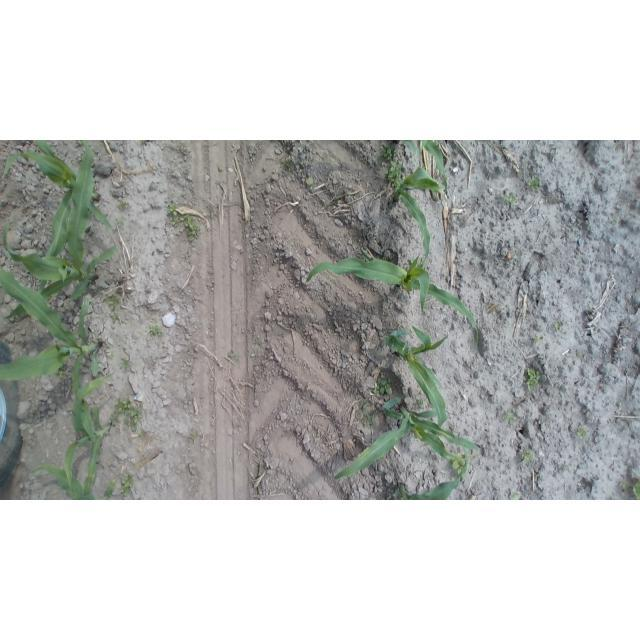Maize: (2, 141, 122, 324), (302, 246, 482, 353), (1, 262, 107, 422), (329, 391, 483, 482), (4, 140, 116, 260), (55, 371, 117, 500), (383, 323, 451, 433), (391, 163, 442, 263), (27, 460, 124, 501), (390, 476, 472, 500), (404, 141, 449, 182)
Weeds: (109, 396, 145, 435), (382, 161, 406, 191), (181, 214, 204, 242), (522, 367, 544, 394), (118, 473, 136, 500), (360, 402, 377, 430), (166, 202, 183, 229), (452, 454, 471, 478), (373, 377, 394, 397), (622, 477, 640, 500), (99, 293, 119, 311), (503, 409, 520, 428), (512, 245, 529, 263), (503, 190, 520, 207), (147, 323, 166, 338), (521, 449, 537, 466), (115, 197, 132, 212), (527, 175, 541, 193), (226, 349, 241, 363), (117, 357, 131, 372), (379, 148, 394, 161), (610, 215, 623, 229), (281, 156, 295, 169), (576, 425, 587, 441), (189, 430, 201, 444), (505, 490, 521, 500), (554, 320, 566, 333), (105, 345, 116, 359), (75, 154, 88, 165), (417, 398, 428, 411), (111, 217, 125, 227), (53, 371, 67, 380), (305, 175, 316, 186), (109, 313, 119, 325), (138, 429, 147, 440), (577, 352, 586, 363), (534, 334, 545, 343), (75, 141, 86, 148), (135, 140, 147, 144)
